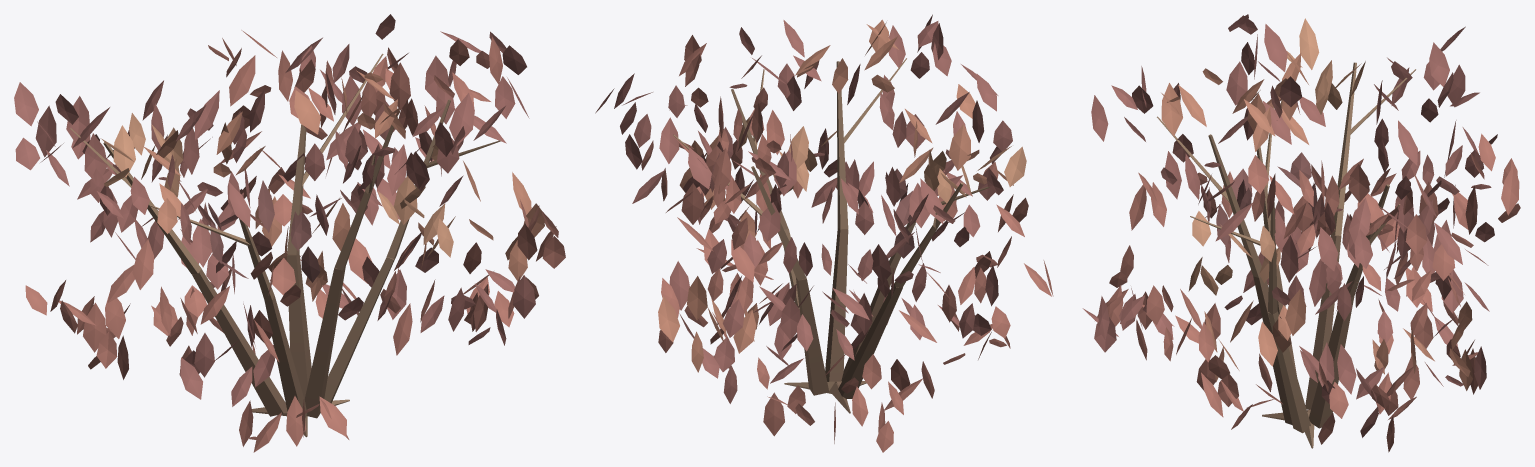
Rendered from bush_3d_03_red.glb.
3 renders of one model, left to right at view 1: azimuth 30°, elevation 25°; view 2: azimuth 150°, elevation 25°; view 3: azimuth 270°, elevation 25°, orthographic. The views are drawn at different scales.
Parts seen in each view (by area): view 1: bush_3d_03_red_foliage, bush_3d_03_red_wood; view 2: bush_3d_03_red_foliage, bush_3d_03_red_wood; view 3: bush_3d_03_red_foliage, bush_3d_03_red_wood.
Part boxes in pixels (box(x1,y1,x2,y2)): bush_3d_03_red_foliage: box(14, 14, 565, 452); bush_3d_03_red_wood: box(70, 53, 500, 437); bush_3d_03_red_foliage: box(595, 14, 1053, 452); bush_3d_03_red_wood: box(673, 58, 989, 413); bush_3d_03_red_foliage: box(1082, 14, 1520, 452); bush_3d_03_red_wood: box(1157, 62, 1415, 448).
Bounding box in the file's own units: 2.6 × 2 × 2.2.
